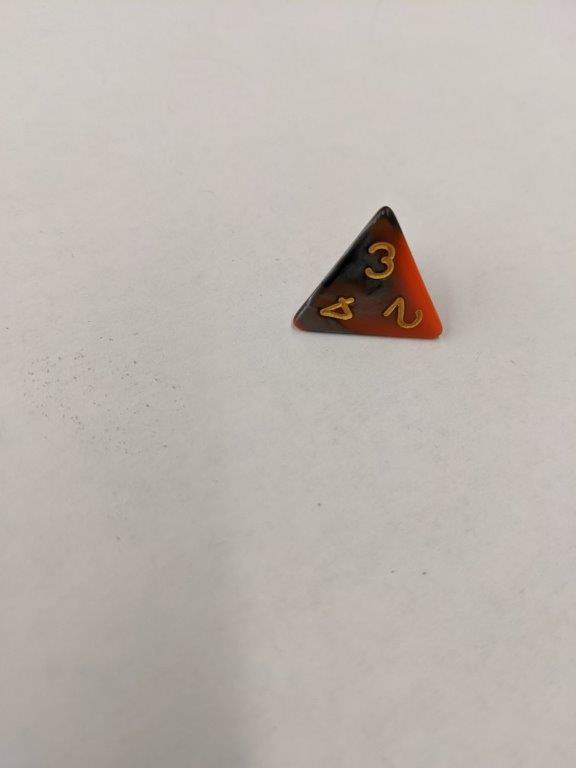d4-3: (291, 200, 443, 352)
